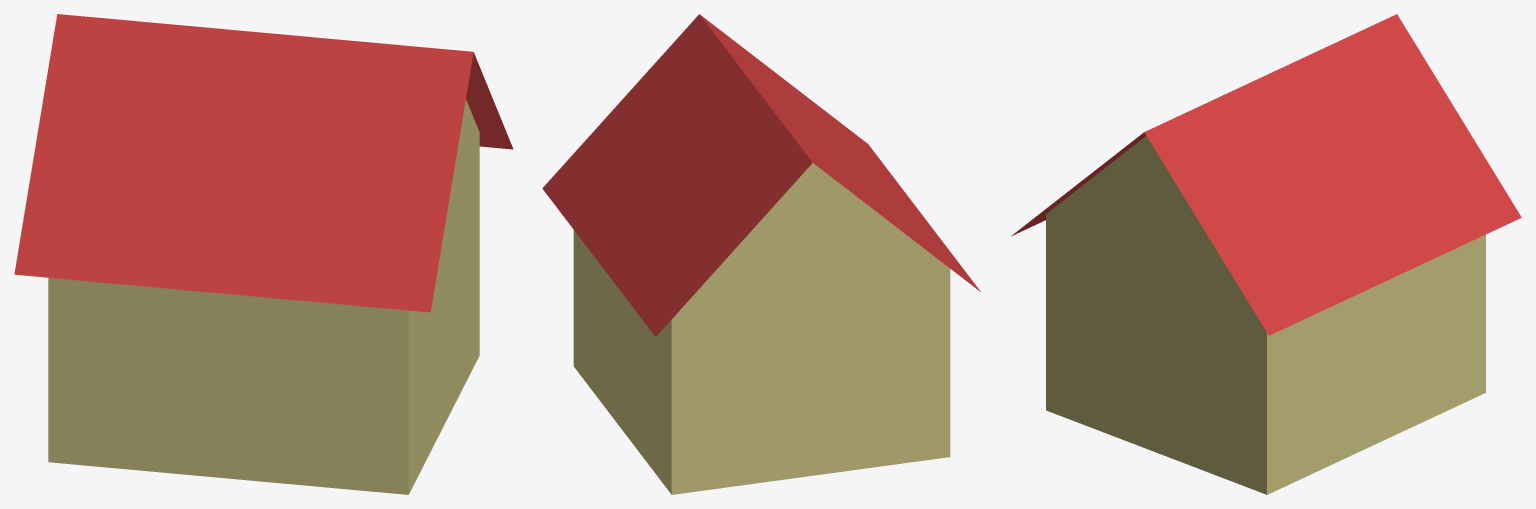
3 views of the same model, side by side, from view 1: azimuth 30°, elevation 25°; view 2: azimuth 150°, elevation 25°; view 3: azimuth 270°, elevation 25° (orthographic). The views are drawn at different scales.
Bounding box in the file's own units: 15.18 × 15.12 × 10.77.
